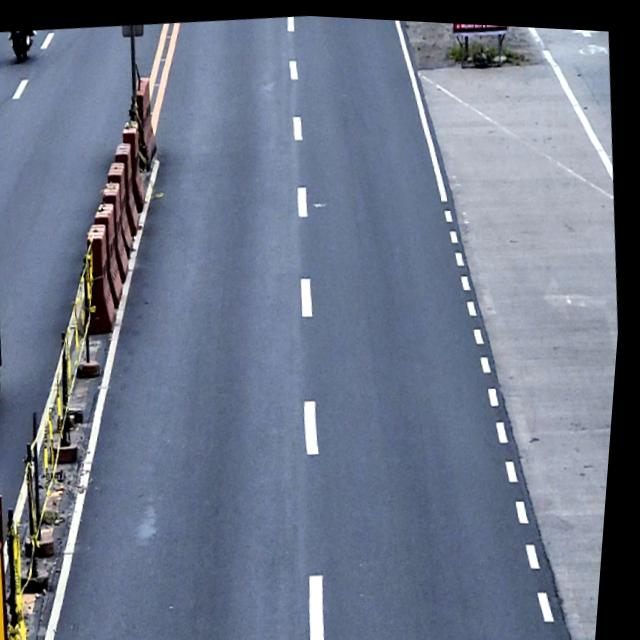Car: (0, 229, 23, 437)
Motorcycle: (5, 28, 40, 65)
